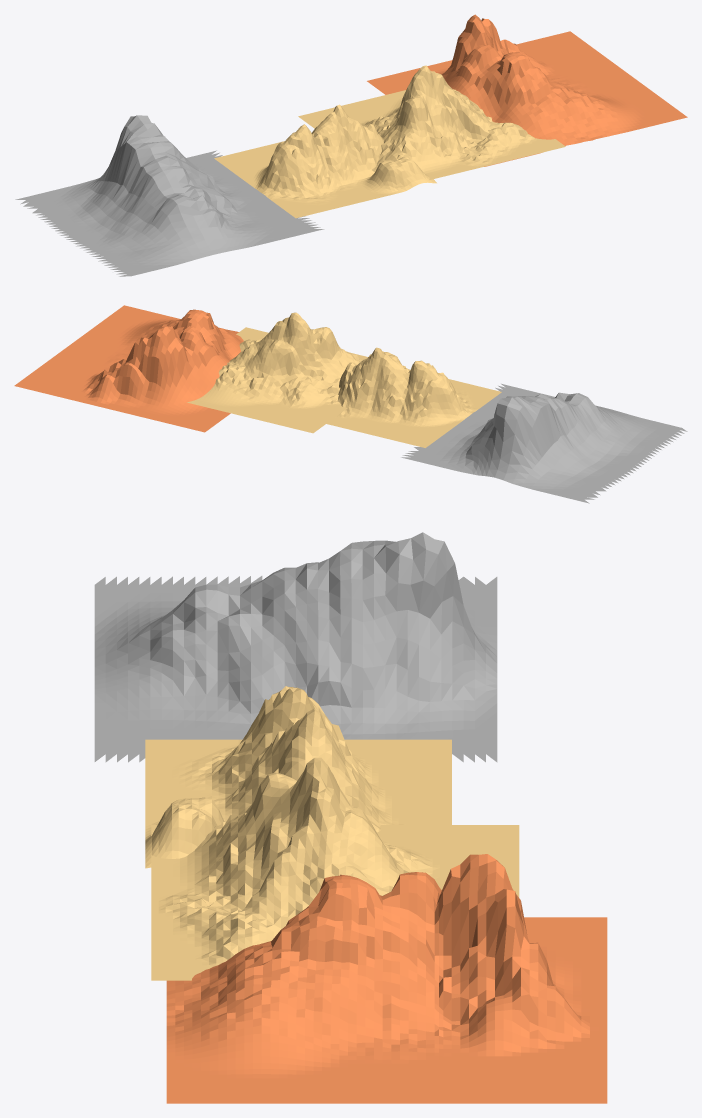
Rendered from Assests.fbx.
3 renders of one model, top to bottom at view 1: azimuth 30°, elevation 25°; view 2: azimuth 150°, elevation 25°; view 3: azimuth 270°, elevation 25°, orthographic. The views are drawn at different scales.
Parts seen in each view (by area): view 1: Plane.002, Plane, Plane.003, Plane.001; view 2: Plane.002, Plane, Plane.001, Plane.003; view 3: Plane, Plane.002, Plane.001, Plane.003.
Part boxes in pixels (x1=…): Plane.002: x1=15, y1=115, x2=324, y2=276; Plane: x1=367, y1=14, x2=687, y2=166; Plane.003: x1=214, y1=104, x2=436, y2=218; Plane.001: x1=298, y1=65, x2=565, y2=188; Plane.002: x1=401, y1=383, x2=687, y2=503; Plane: x1=14, y1=305, x2=243, y2=432; Plane.001: x1=187, y1=312, x2=404, y2=433; Plane.003: x1=326, y1=347, x2=501, y2=447; Plane: x1=166, y1=854, x2=607, y2=1103; Plane.002: x1=94, y1=532, x2=497, y2=762; Plane.001: x1=151, y1=757, x2=519, y2=980; Plane.003: x1=145, y1=686, x2=451, y2=868.
Bounding box in the file's own units: 4696 × 610 × 1894.
